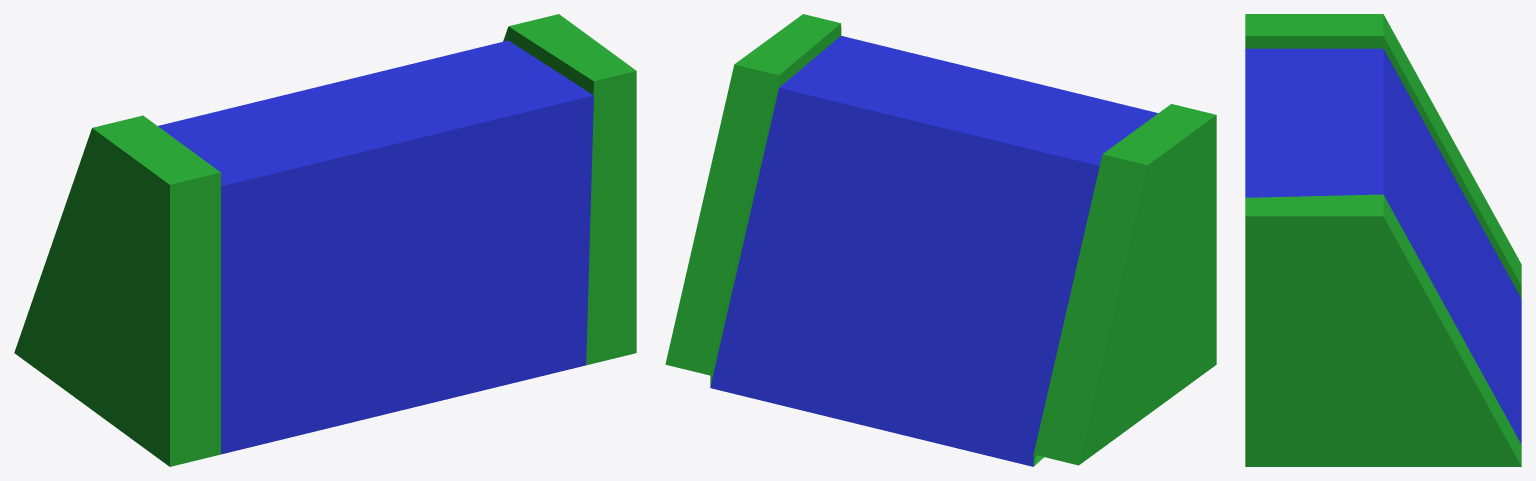
Rendered from cliff-left-river_edge.glb.
The picture shows the model from 3 angles, left to right: view 1: azimuth 30°, elevation 25°; view 2: azimuth 150°, elevation 25°; view 3: azimuth 270°, elevation 25°; orthographic projection. The views are drawn at different scales.
Parts seen in each view (by area): view 1: cliff-left-river_edge; view 2: cliff-left-river_edge; view 3: cliff-left-river_edge.
Part boxes in pixels (left/top/right/bottom): cliff-left-river_edge: left=14, top=14, right=636, bottom=466; cliff-left-river_edge: left=665, top=14, right=1216, bottom=466; cliff-left-river_edge: left=1245, top=14, right=1521, bottom=466.
Size of the model in its own units: 0.866 by 0.525 by 0.5.
